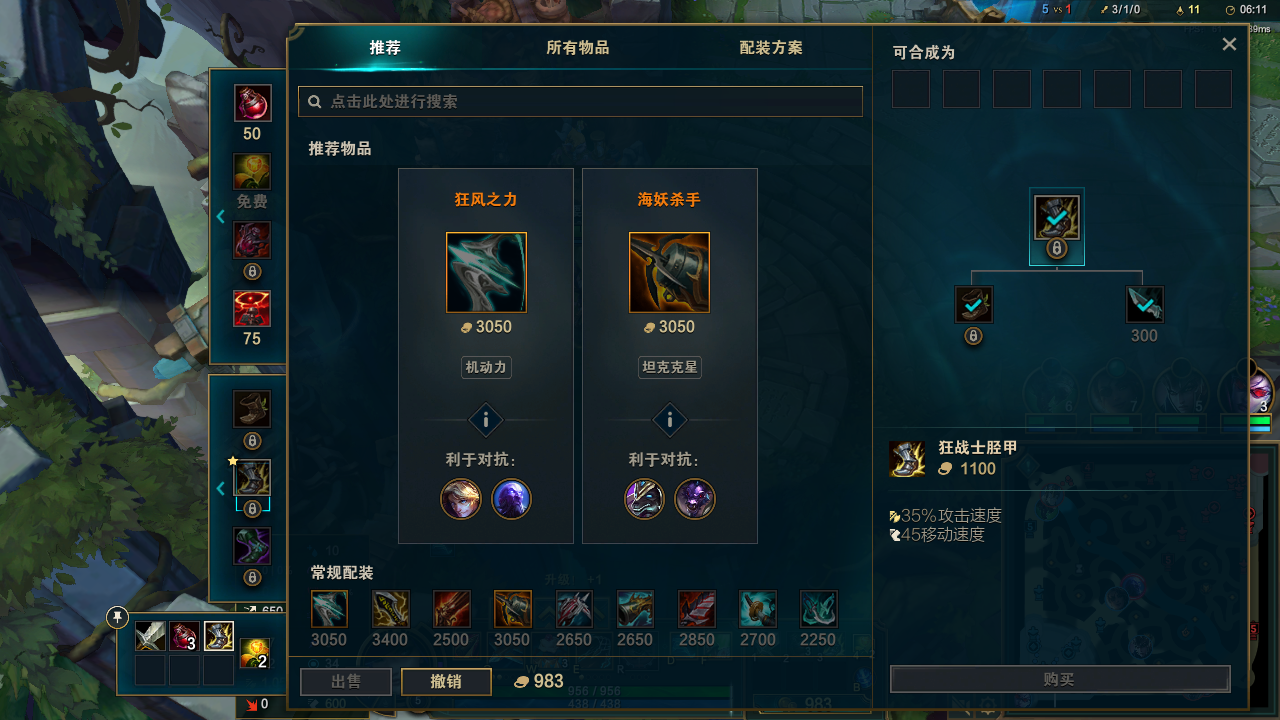GTH: (625, 397, 731, 437), (439, 398, 527, 441)
TJJM: (335, 37, 434, 77)
